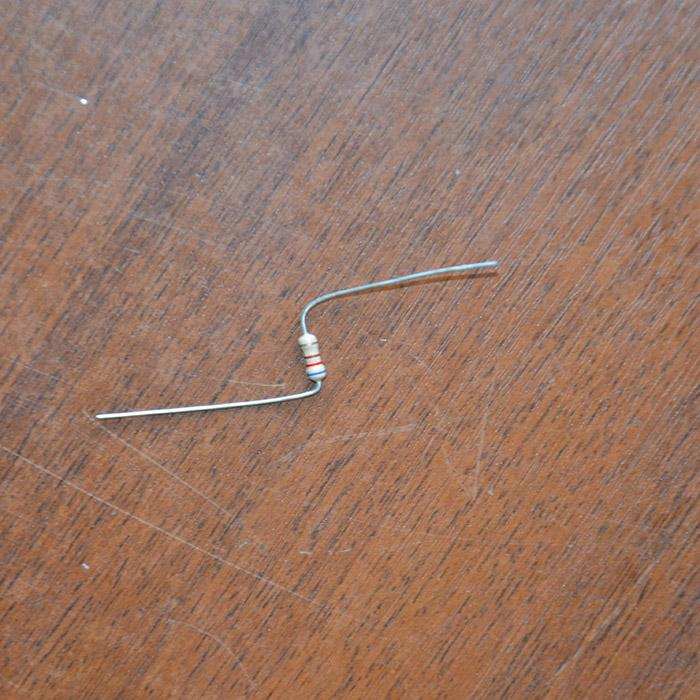resistor: (297, 332, 326, 380)
